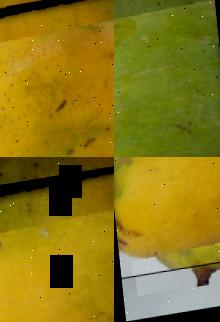PartiallyRipe: (0, 163, 114, 322)
Ripe: (0, 0, 114, 157), (114, 157, 220, 279)
Unripe: (114, 0, 220, 157)
